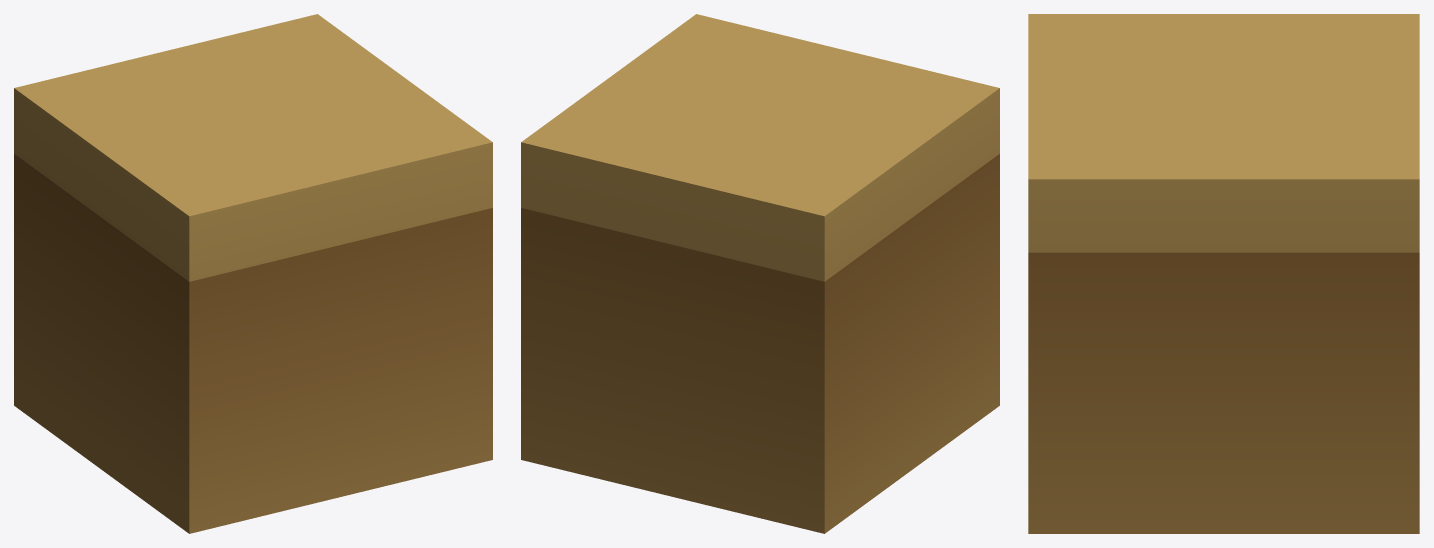
Rendered from Fbx_CubeTest.fbx.
The picture shows the model from 3 angles, left to right: view 1: azimuth 30°, elevation 25°; view 2: azimuth 150°, elevation 25°; view 3: azimuth 270°, elevation 25°; orthographic projection. The views are drawn at different scales.
Parts seen in each view (by area): view 1: Cube; view 2: Cube; view 3: Cube.
Part boxes in pixels (x1,y1,x2,y2): Cube: (14, 14, 492, 533); Cube: (521, 14, 999, 533); Cube: (1028, 14, 1419, 533).
Size of the model in its own units: 1 by 1 by 1.
Materials: 1 (1 with a texture image).
